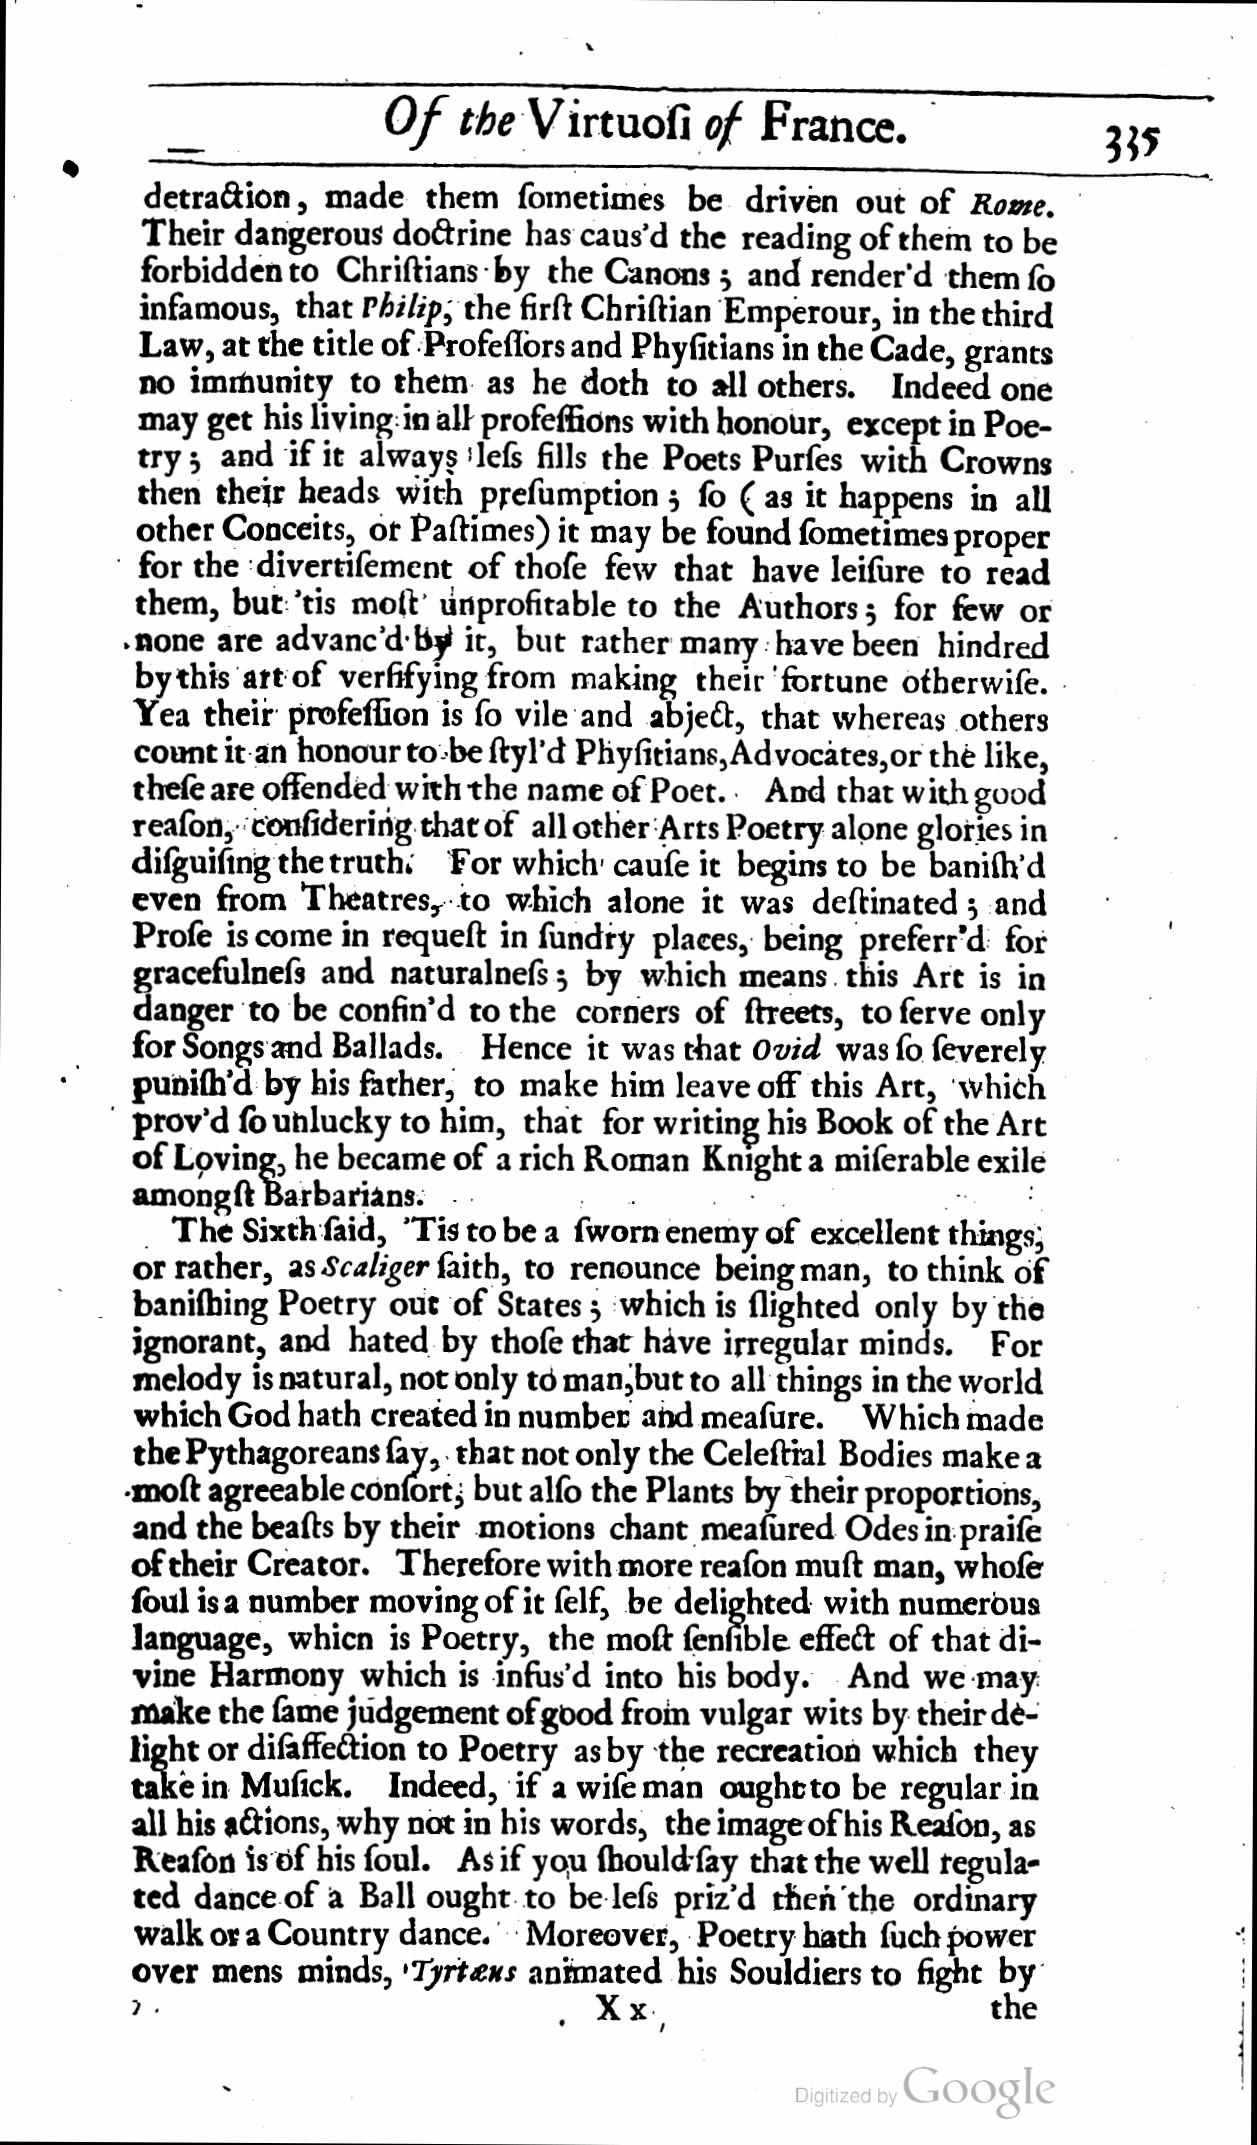bottom_p: (127, 177, 1062, 1216)
catchword: (985, 1994, 1040, 2027)
header: (377, 91, 911, 157)
page_num: (1098, 120, 1169, 172)
signature: (593, 1994, 652, 2028)
top_p: (124, 1213, 1052, 1995)
